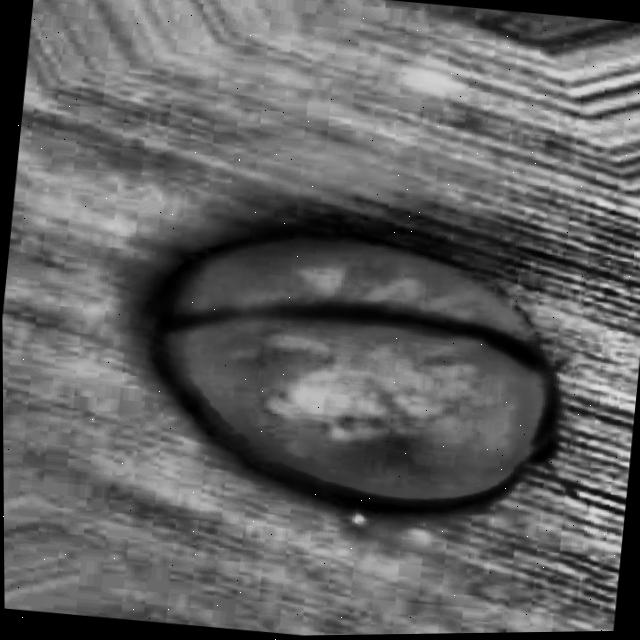Ladybug: (71, 128, 637, 625)
